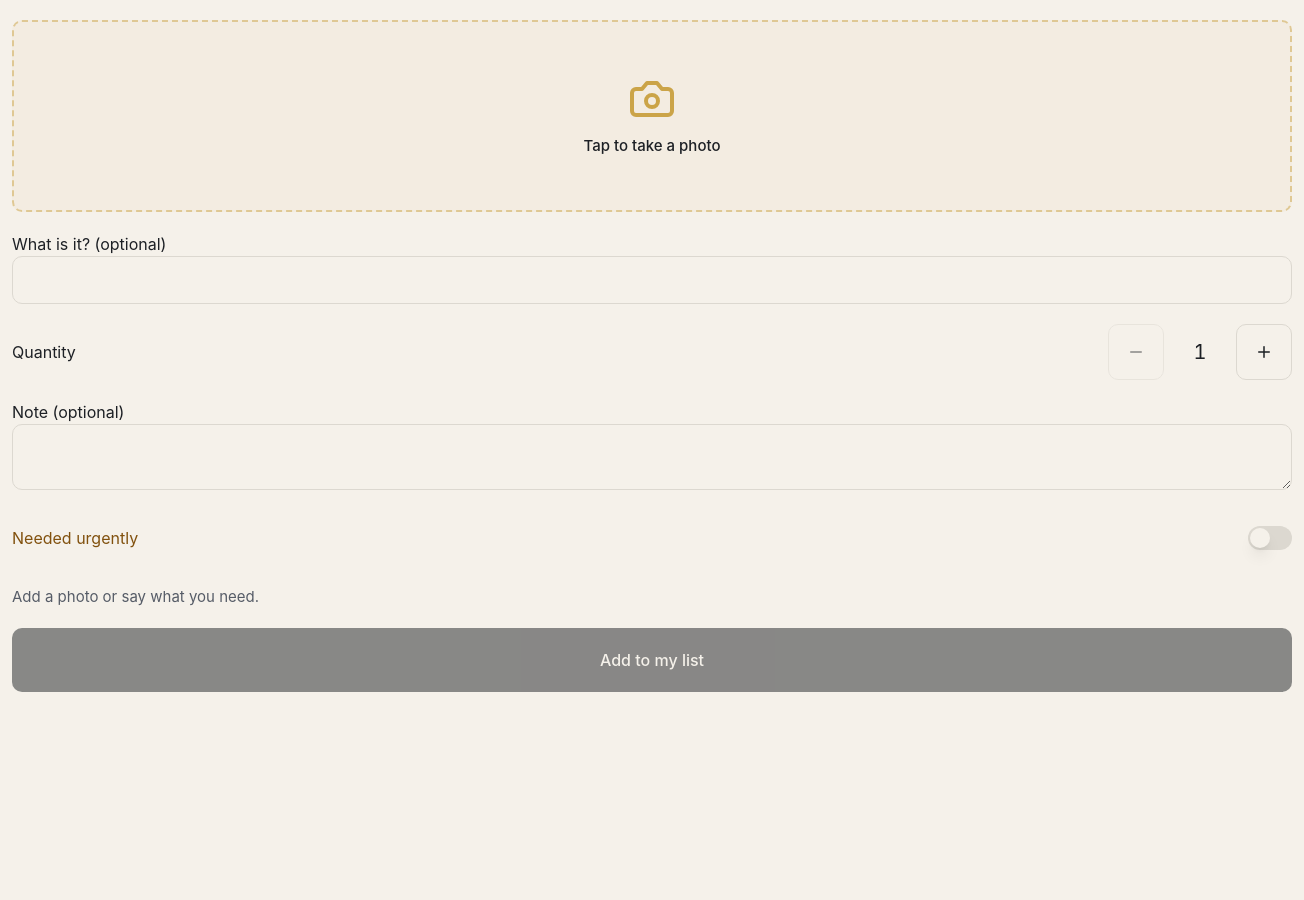
request forms › urgent send only sends the inserted draft and retries without another insert
Later steps or results of the test are not shown.
Type "Urgent soap" into the field labelled "What is it? (optional)".
click(652, 280); type("Urgent soap")  # box [12,256,1292,304]
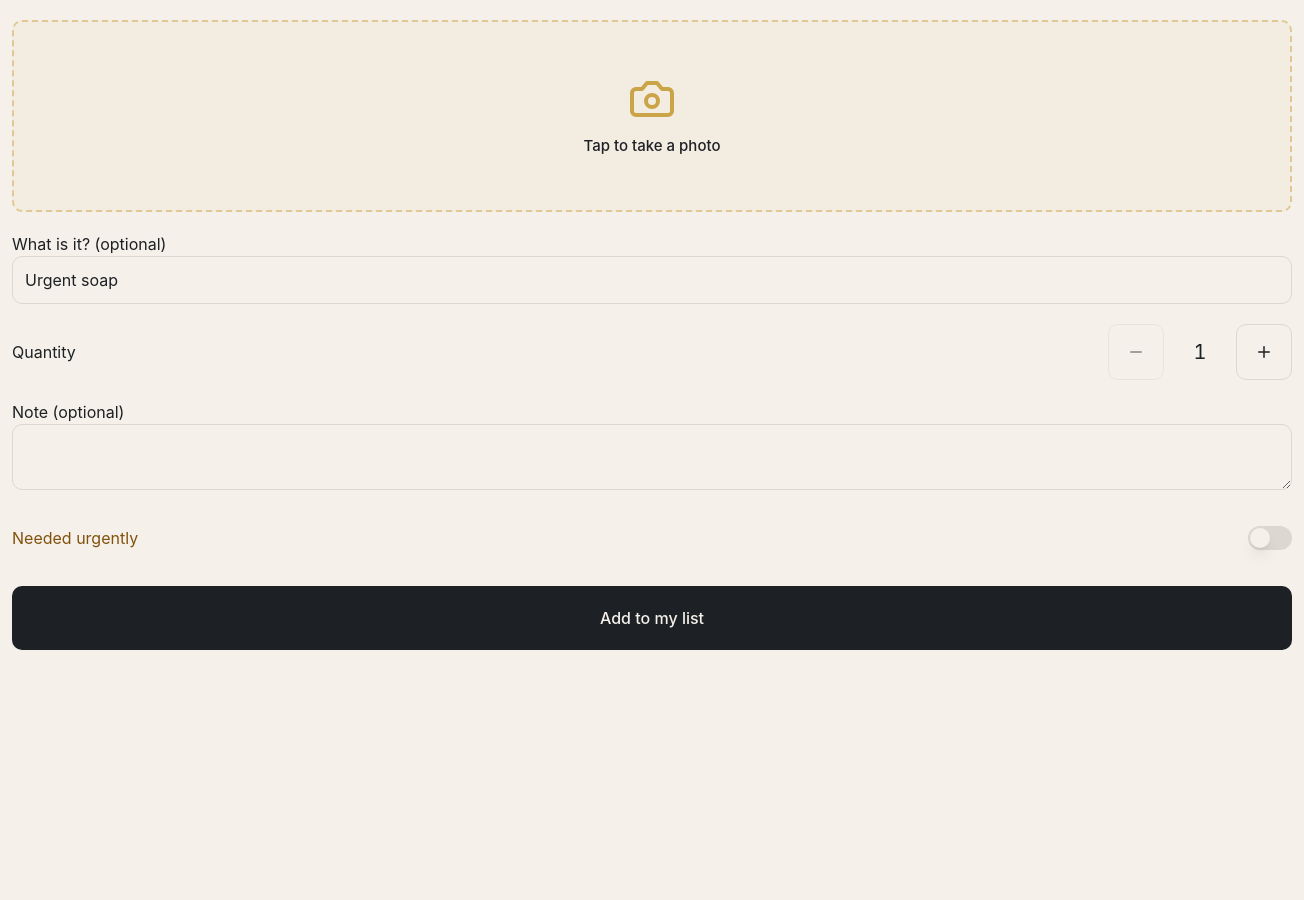
Click the switch.
click(1270, 538)  # box [1248,526,1292,550]
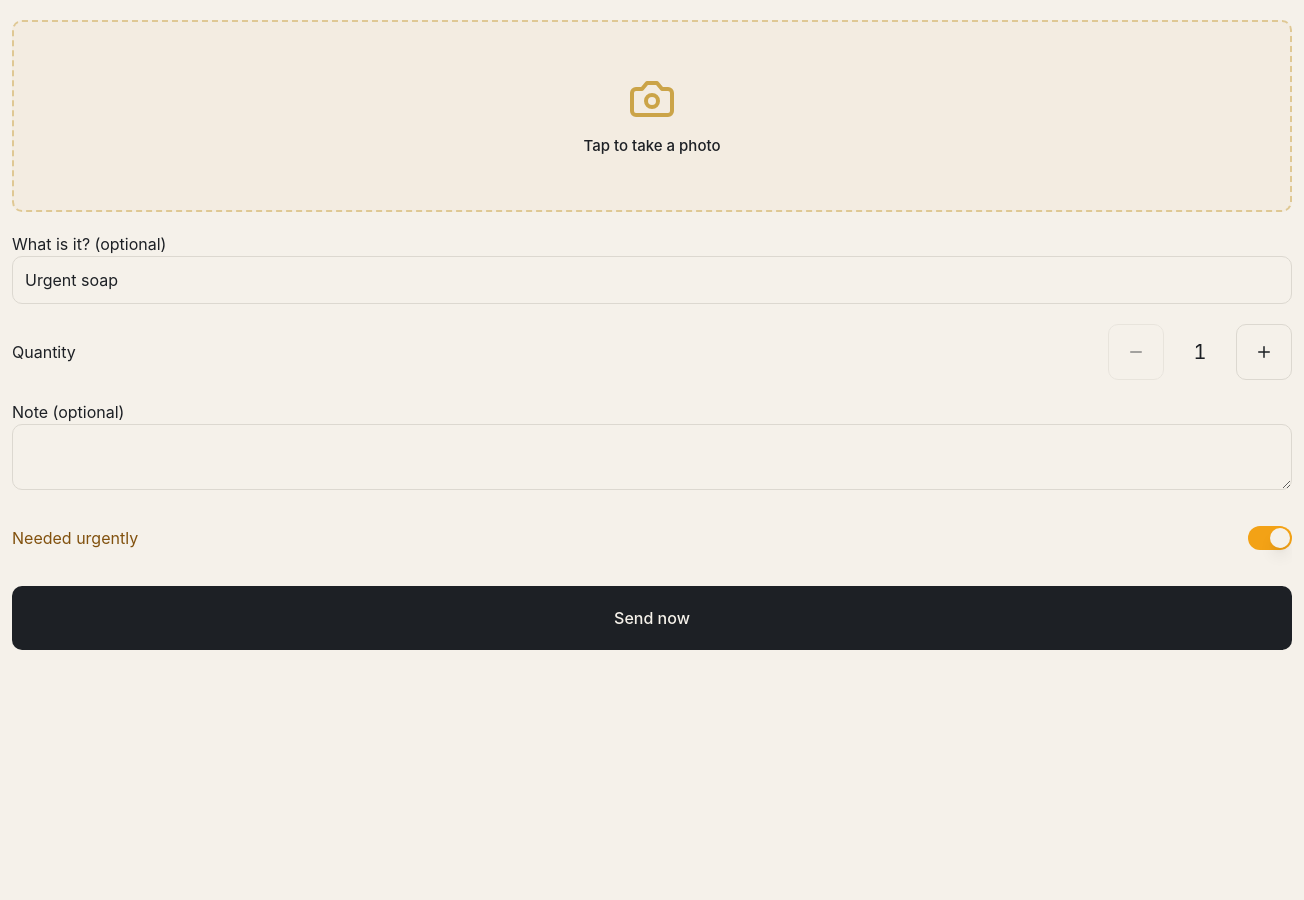
Click the button "Send now".
click(652, 618)  # box [12,586,1292,650]
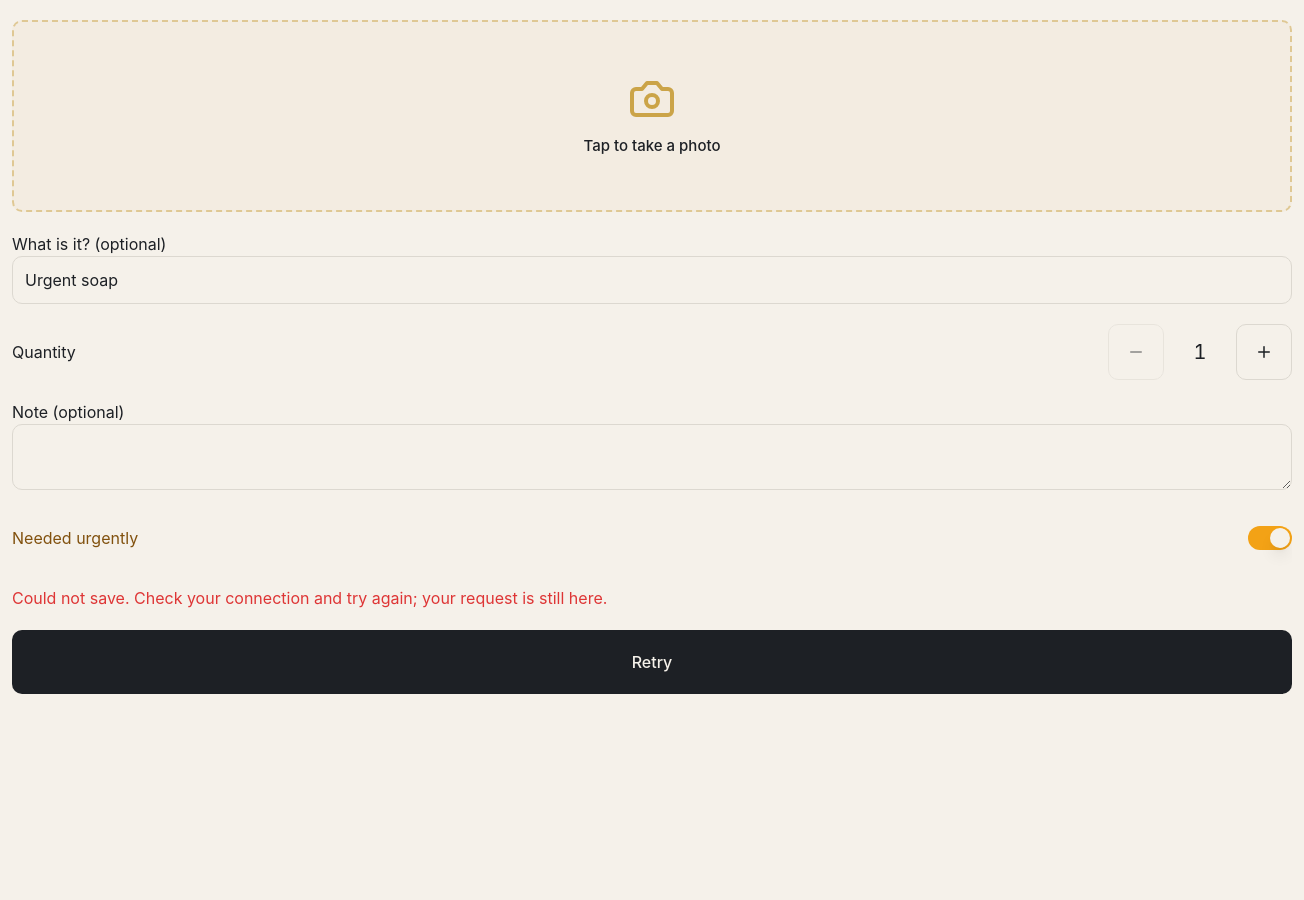
Check: the message is shown, box [12,588,607,608]
